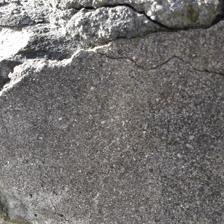Crack: (103, 138, 139, 172), (126, 135, 193, 153)
